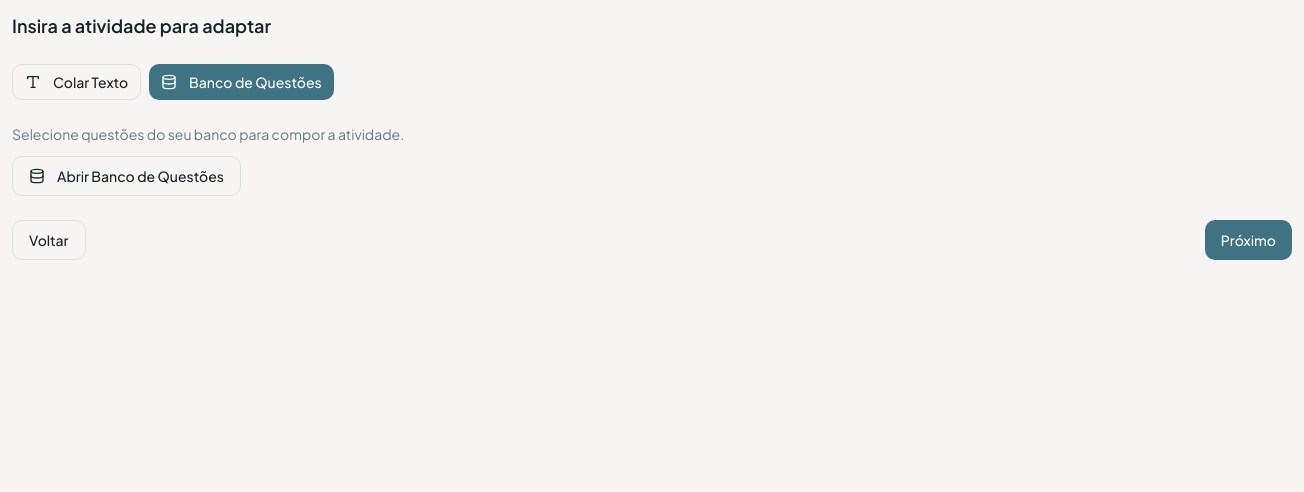
Test: StepActivityInput › shows character count on manual tab
Click the button "Colar Texto": (76, 82) [12,64,141,100]
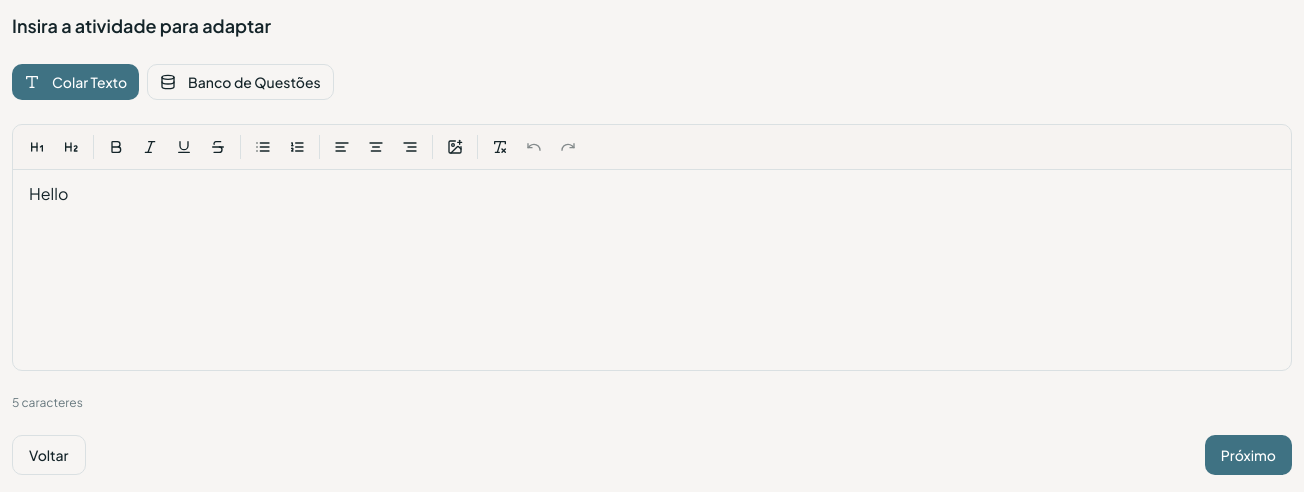
Expected: the text "5 caracteres" is shown, [12,395,83,410]
